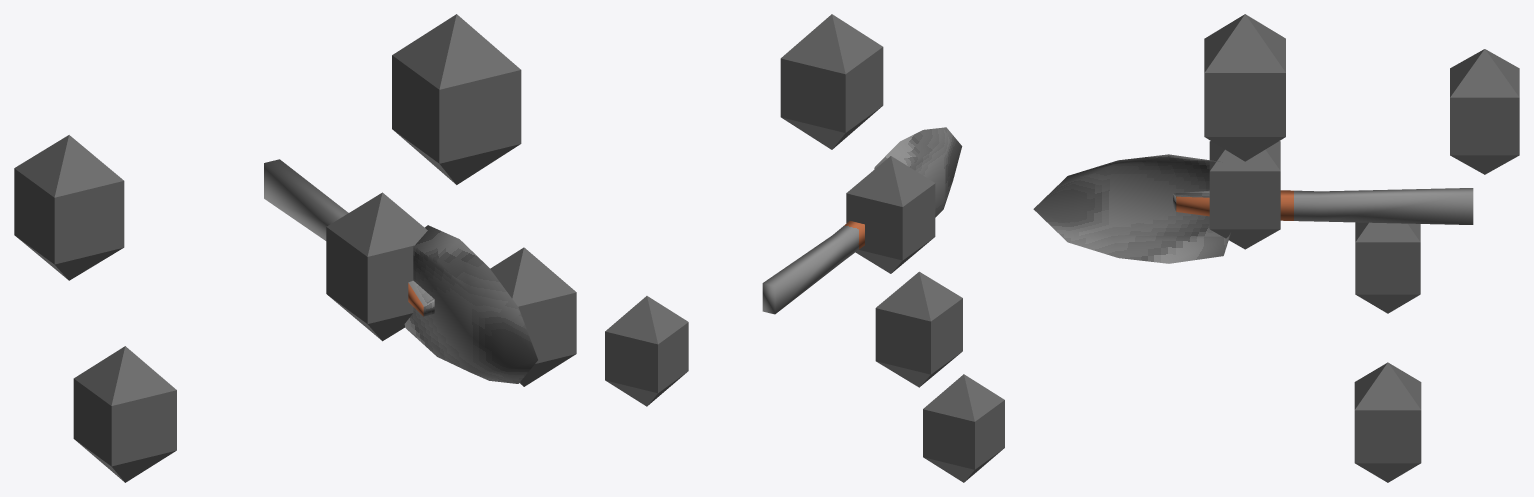
3 renders of one model, left to right at view 1: azimuth 30°, elevation 25°; view 2: azimuth 150°, elevation 25°; view 3: azimuth 270°, elevation 25°, orthographic. The views are drawn at different scales.
Parts seen in each view (by area): view 1: 2700equip00_e; view 2: 2700equip00_e; view 3: 2700equip00_e.
Boxes of the visible parts, x1=… form: 2700equip00_e: x1=14, y1=14, x2=576, y2=482; 2700equip00_e: x1=605, y1=14, x2=1004, y2=482; 2700equip00_e: x1=1033, y1=14, x2=1519, y2=482.
Bounding box in the file's own units: 0.8501 × 0.8179 × 0.8882.
Materials: 1 (1 with a texture image).
